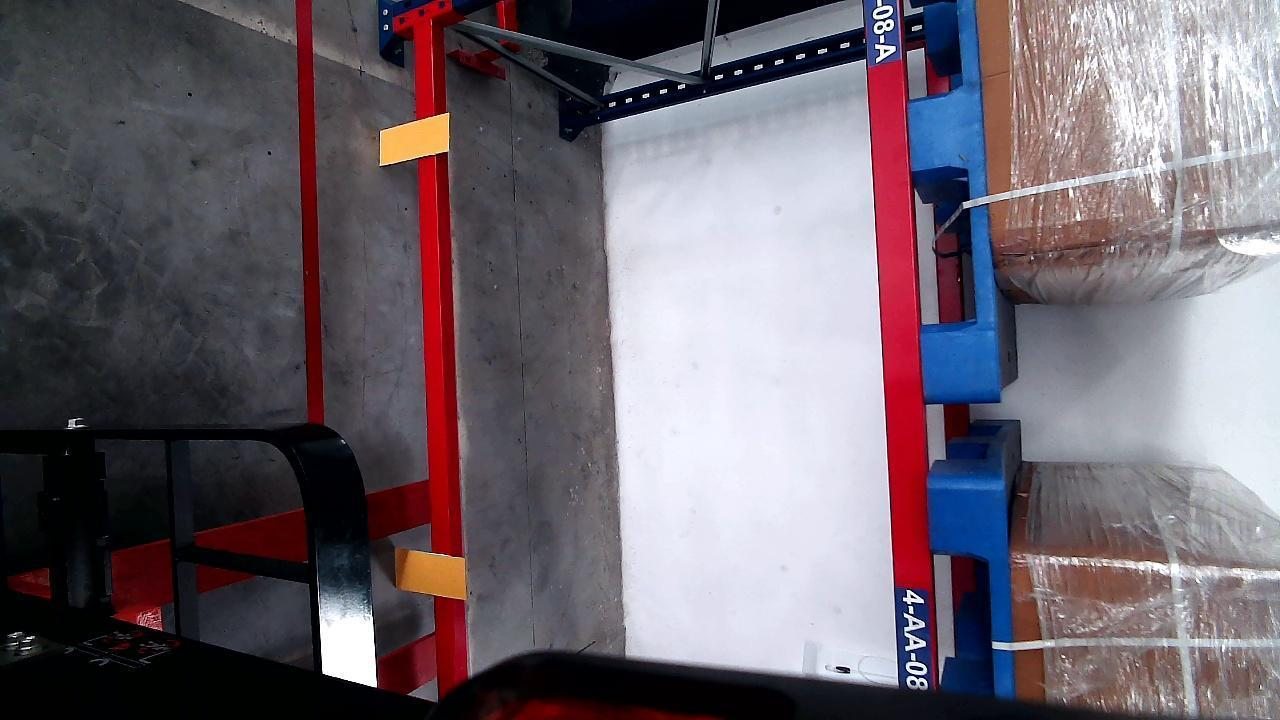h_rack: (867, 0, 935, 703), (413, 0, 457, 667)
orange_strip: (378, 112, 449, 166), (395, 548, 466, 601)
red_line: (297, 0, 324, 435)
small_pallet: (899, 0, 1001, 402), (934, 476, 1012, 697)
